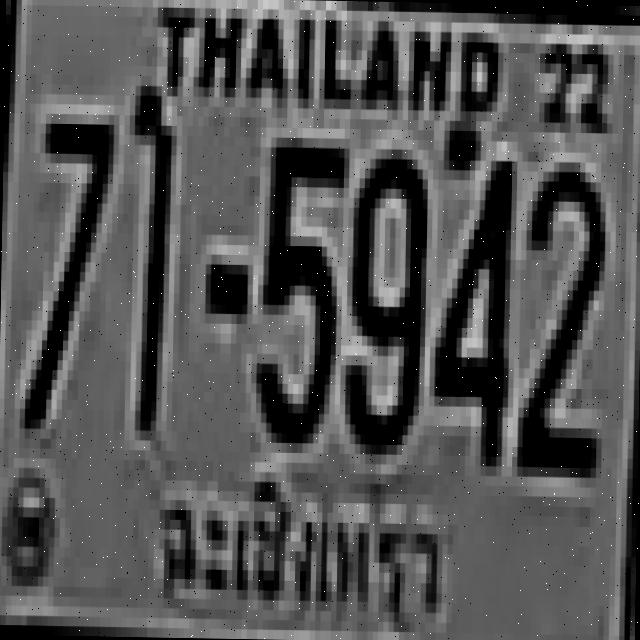1: (128, 127, 186, 464)
2: (520, 156, 618, 522)
4: (438, 152, 516, 489)
5: (242, 123, 348, 462)
7: (3, 74, 129, 476)
9: (343, 131, 435, 478)
Chachoengsao: (133, 477, 460, 632)
